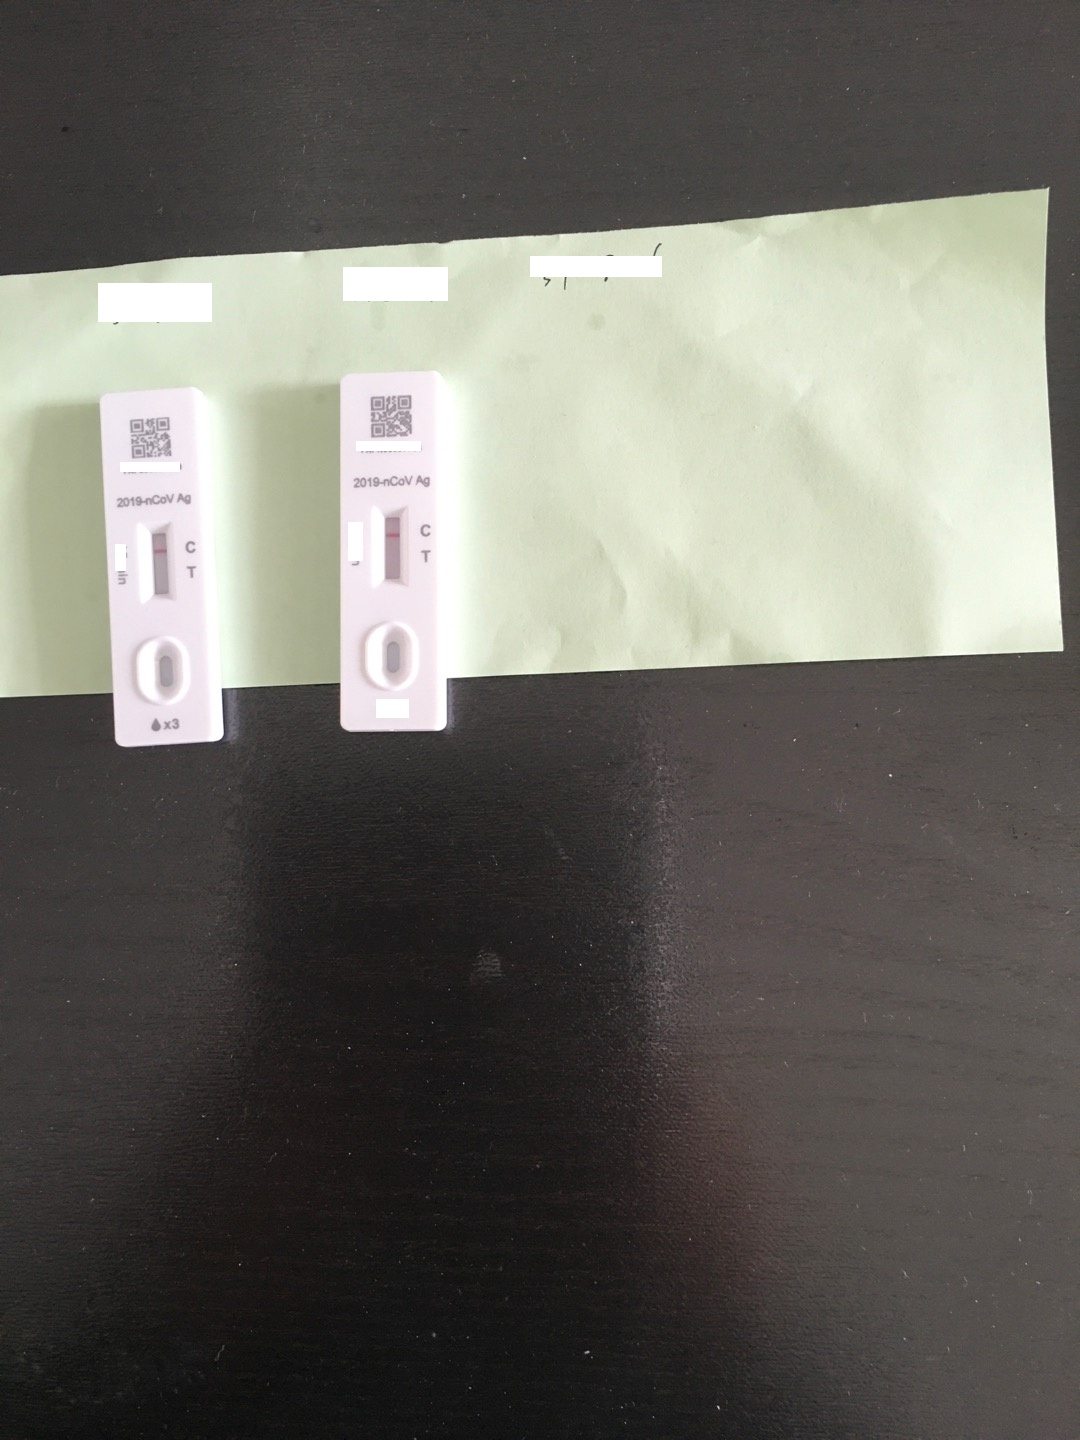negative: (138, 522, 172, 599), (377, 513, 410, 588)
